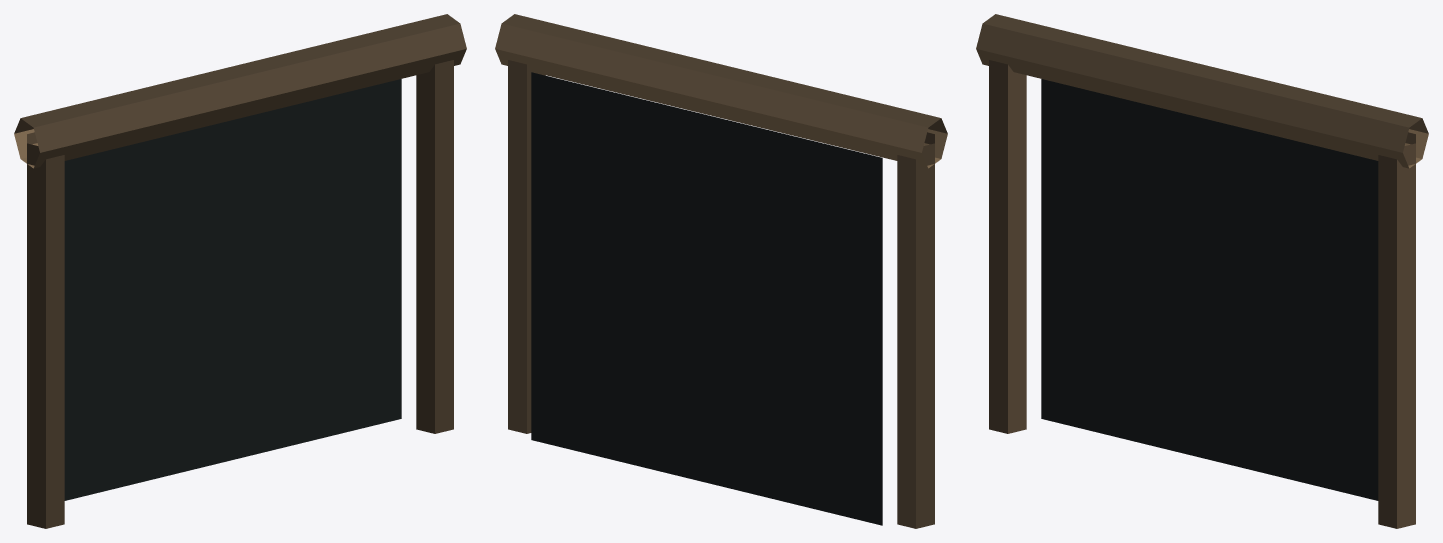
3 renders of one model, left to right at view 1: azimuth 30°, elevation 25°; view 2: azimuth 150°, elevation 25°; view 3: azimuth 330°, elevation 25°, orthographic.
Visible parts, largest first — view 1: 219ea781587faf3939617e1d96d4c0141a36ab4ae1b431ddb9a25d57a6a7; view 2: 219ea781587faf3939617e1d96d4c0141a36ab4ae1b431ddb9a25d57a6a7; view 3: 219ea781587faf3939617e1d96d4c0141a36ab4ae1b431ddb9a25d57a6a7.
Boxes of the visible parts, x1,y1,x2,y2 form: 219ea781587faf3939617e1d96d4c0141a36ab4ae1b431ddb9a25d57a6a7: (14,14,466,528); 219ea781587faf3939617e1d96d4c0141a36ab4ae1b431ddb9a25d57a6a7: (495,14,947,528); 219ea781587faf3939617e1d96d4c0141a36ab4ae1b431ddb9a25d57a6a7: (976,14,1428,528).
Size of the model in its own units: 3.4 by 3.06 by 0.38.
2 materials, 1 textured.
